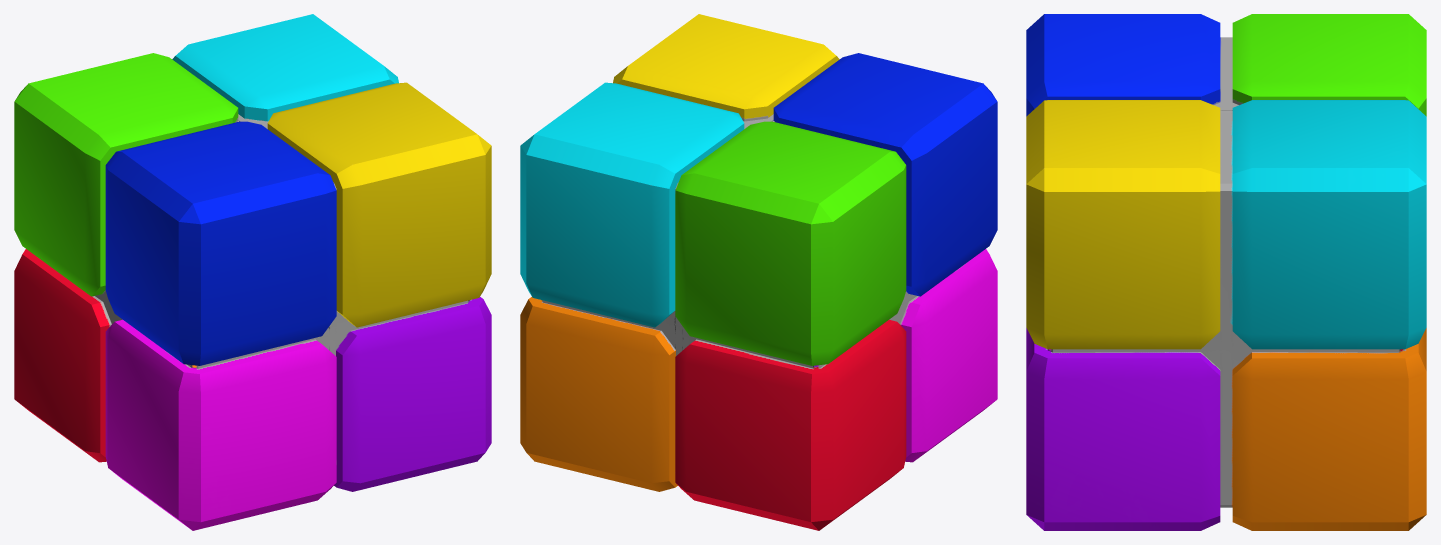
The model's file is ColorBOX.fbx.
3 renders of one model, left to right at view 1: azimuth 30°, elevation 25°; view 2: azimuth 150°, elevation 25°; view 3: azimuth 270°, elevation 25°, orthographic. The views are drawn at different scales.
Parts seen in each view (by area): view 1: MODIFI CUBE; view 2: MODIFI CUBE; view 3: MODIFI CUBE.
Boxes of the visible parts, <box> form: MODIFI CUBE: <box>14,14,491,530</box>; MODIFI CUBE: <box>520,14,997,530</box>; MODIFI CUBE: <box>1026,14,1426,530</box>.
Size of the model in its own units: 200 by 200 by 200.
1 material, 1 textured.
